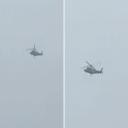helicopter: (83, 61, 105, 77), (26, 45, 45, 59)
